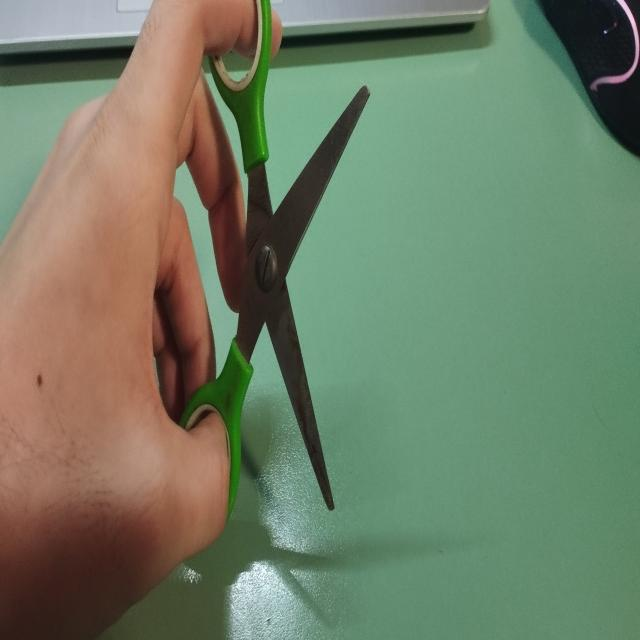tesoura: (165, 0, 372, 532)
